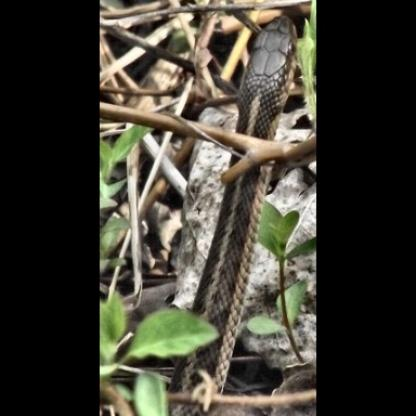Snake: (166, 10, 300, 416)
